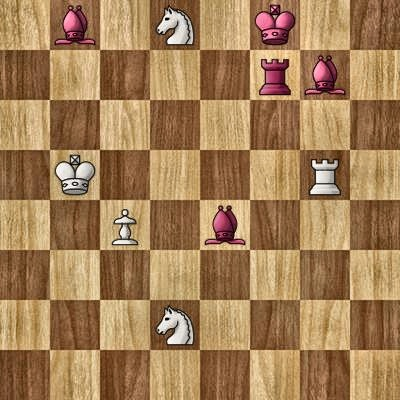black-bishop: (50, 0, 100, 50), (300, 50, 350, 100), (200, 200, 250, 250)
black-king: (250, 0, 300, 50)
black-rook: (250, 50, 300, 100)
white-king: (50, 150, 100, 200)
white-knight: (150, 0, 200, 50), (150, 300, 200, 350)
white-pawn: (100, 200, 150, 250)
white-rook: (300, 150, 350, 200)
